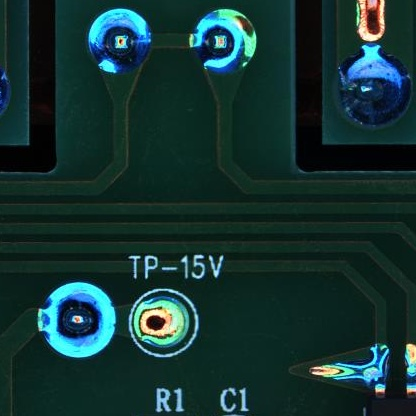spot: (335, 51, 413, 129), (40, 282, 118, 360), (192, 8, 259, 73), (86, 8, 154, 71), (137, 290, 192, 352)
